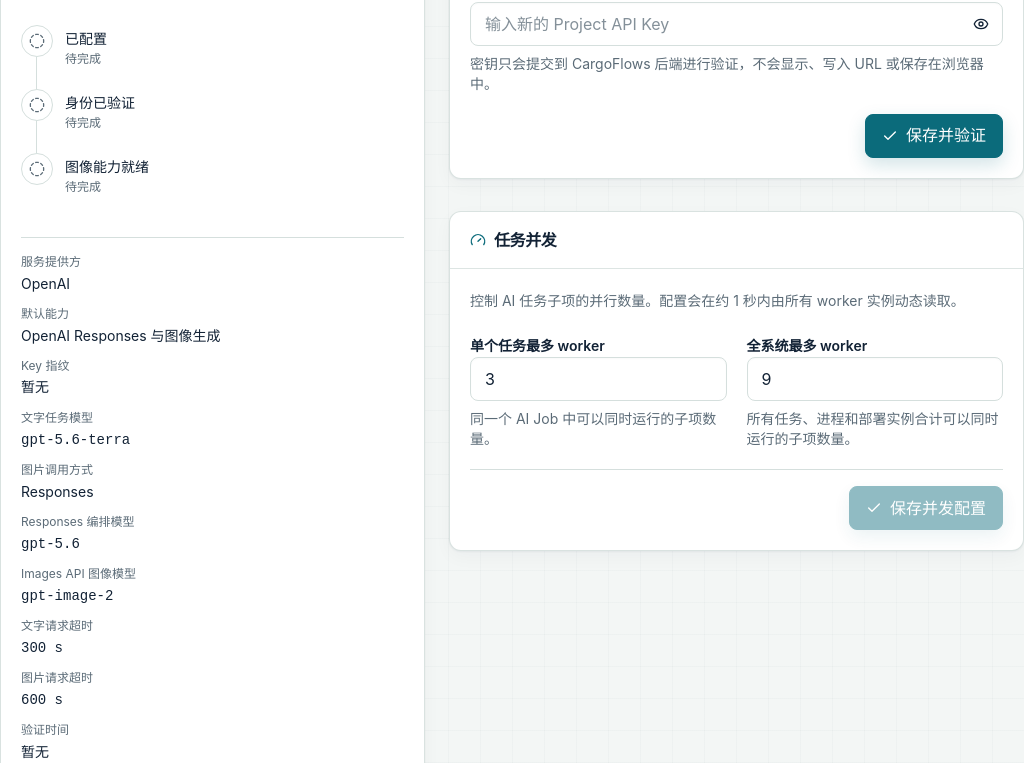
Scenario: OpenAI settings › validates and saves dynamic worker concurrency while OpenAI is unconfigured
(page scrolled)
Expected: the number field labelled "全系统最多 worker" holds "9", [746, 357, 1003, 401]
Replace the text in the number field labelled "单个任务最多 worker" with "10" at (598, 379), box [470, 357, 726, 401]
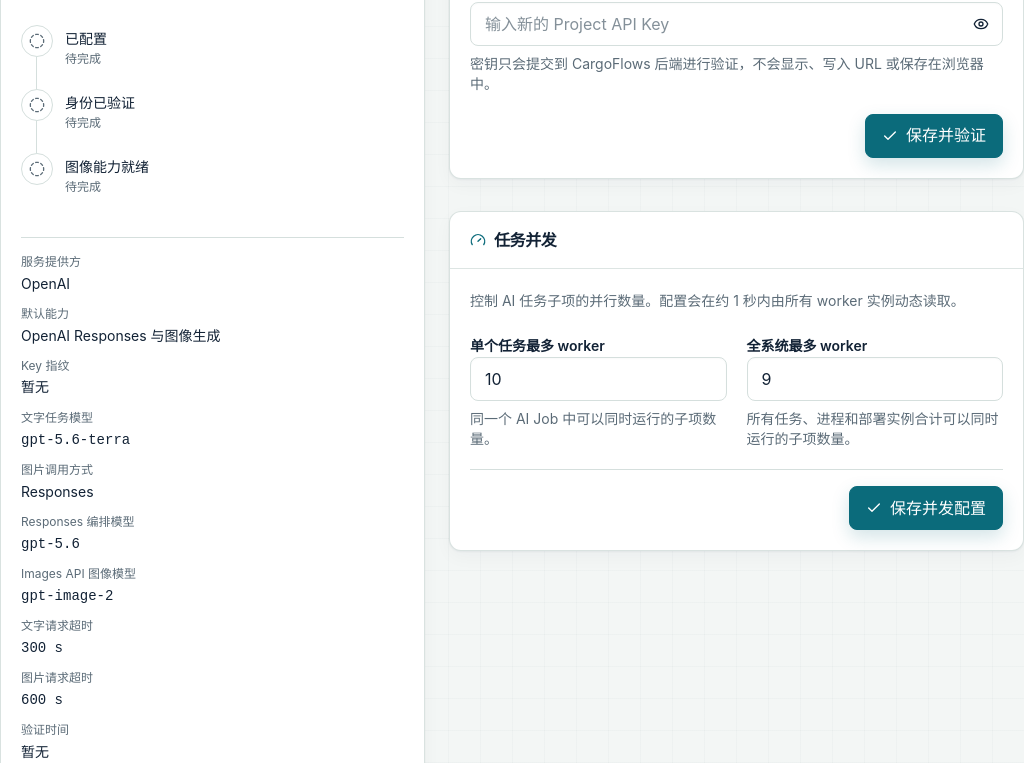
Click the button "保存并发配置".
click(926, 508)  # box [849, 486, 1003, 530]
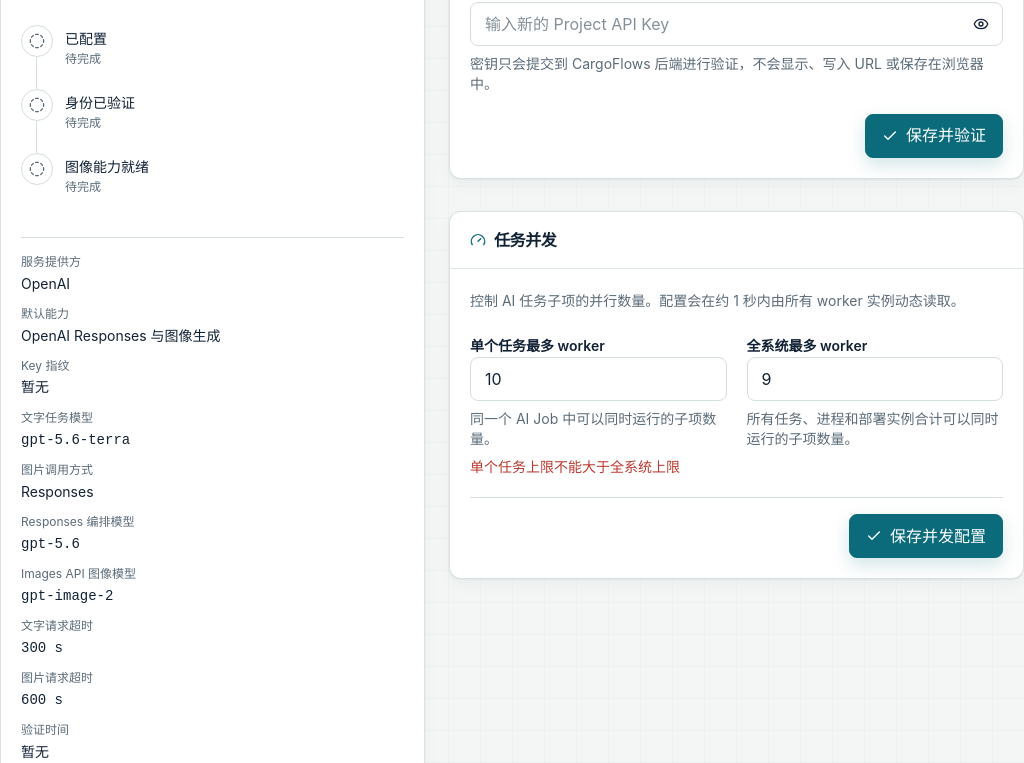
Result: the text "单个任务上限不能大于全系统上限" is shown at [470, 458, 680, 475]
Replace the text in the number field labelled "单个任务最多 worker" with "4" at (598, 379), box [470, 357, 726, 401]
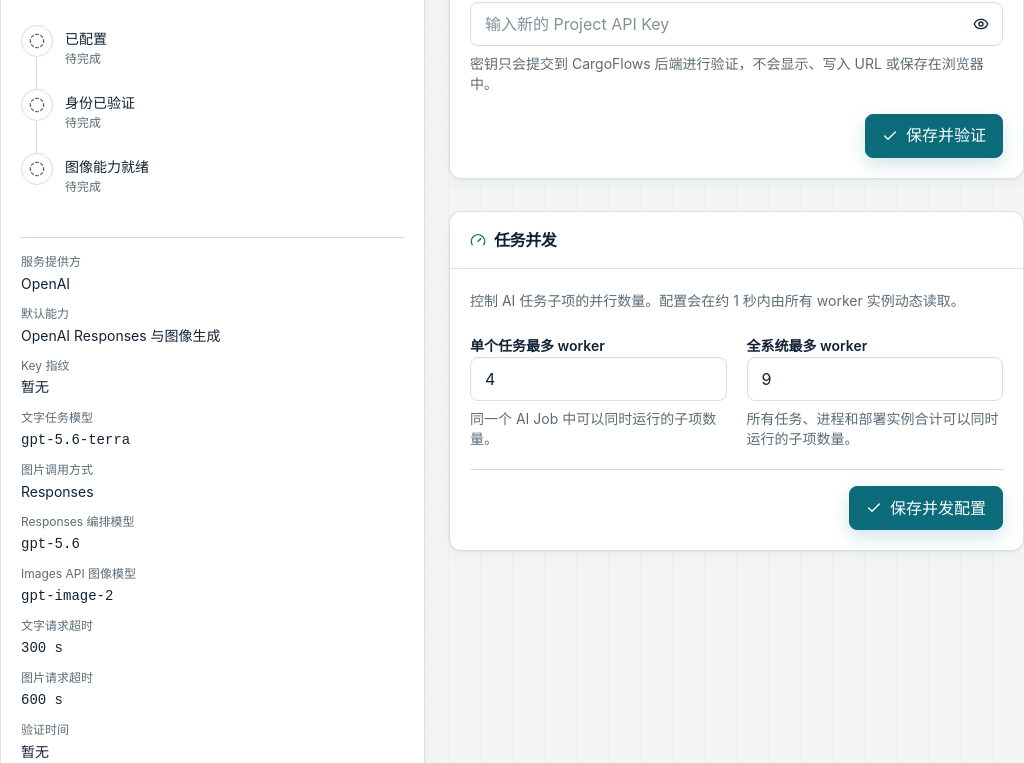
Replace the text in the number field labelled "全系统最多 worker" with "12" at (875, 379), box [746, 357, 1003, 401]
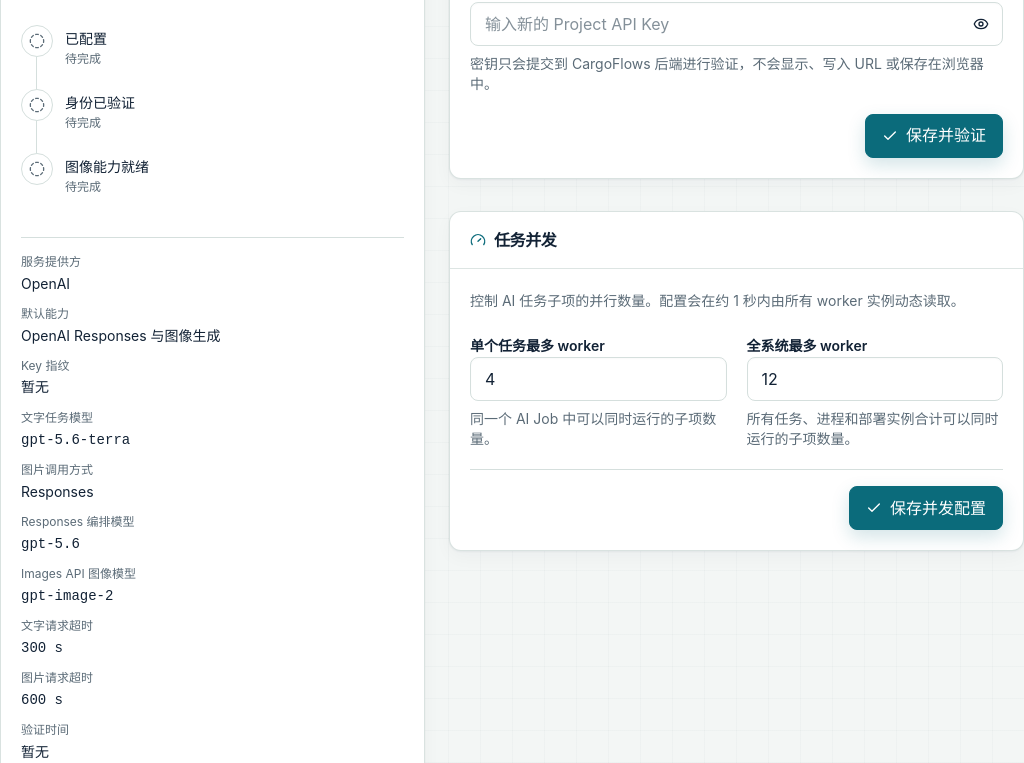
Click the button "保存并发配置".
click(926, 508)  # box [849, 486, 1003, 530]
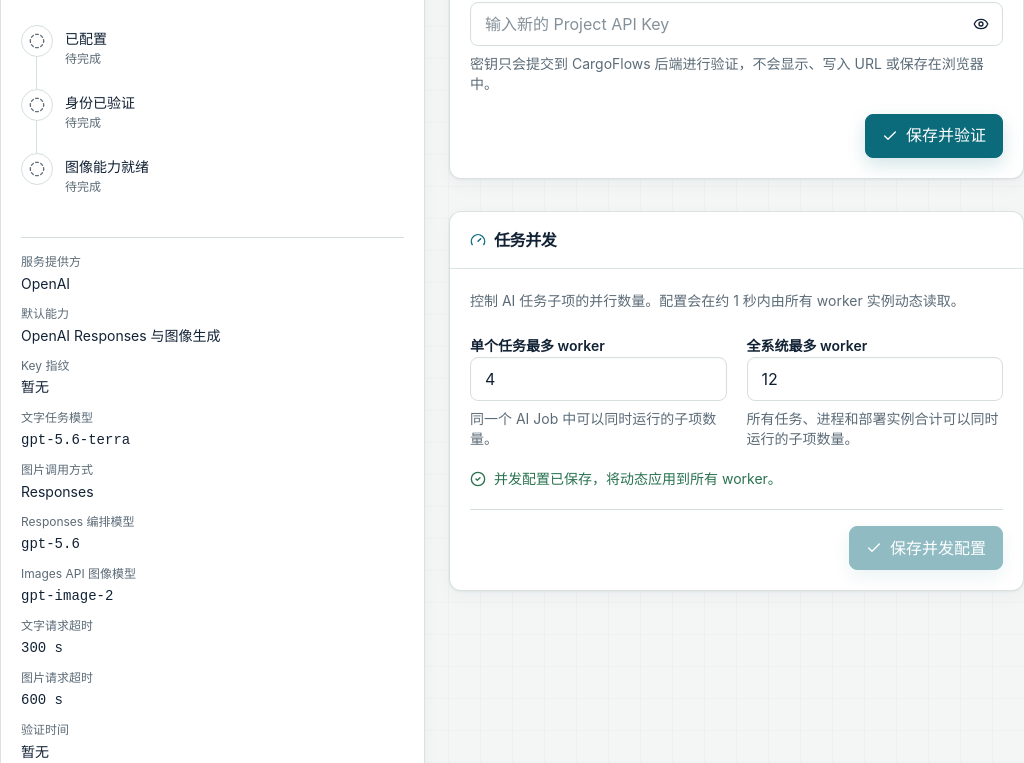
Result: the text "并发配置已保存，将动态应用到所有 worker。" is shown at [470, 470, 782, 487]
